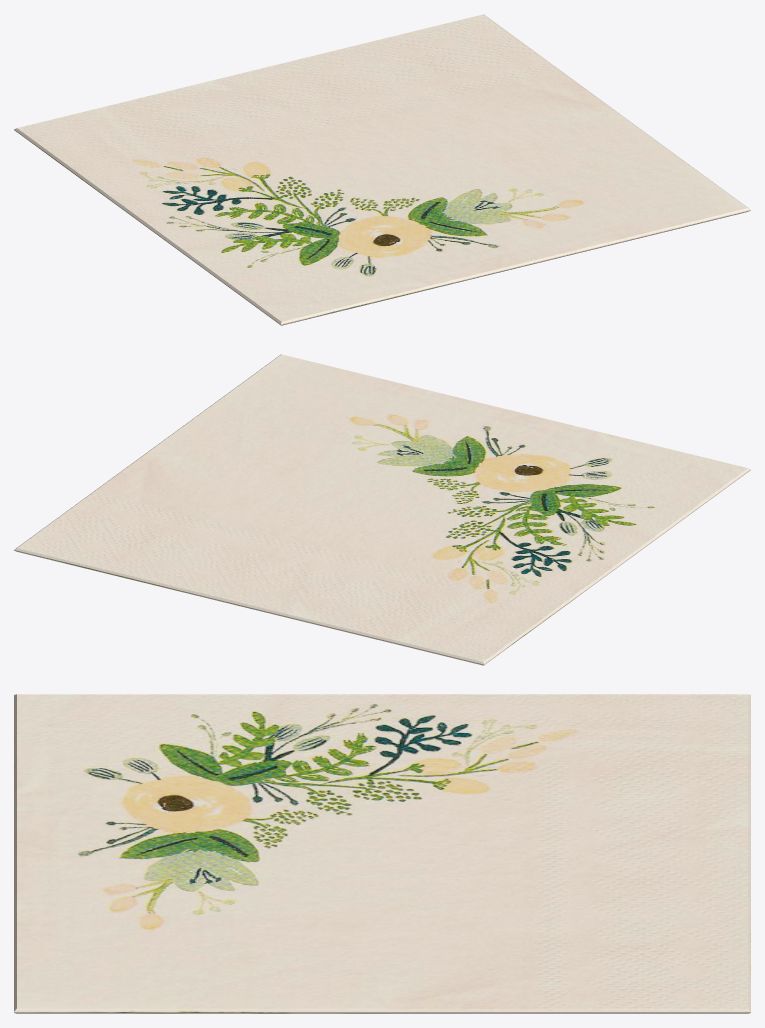
Rendered from Napkin 1.fbx.
3 renders of one model, top to bottom at view 1: azimuth 30°, elevation 25°; view 2: azimuth 150°, elevation 25°; view 3: azimuth 270°, elevation 25°, orthographic. The views are drawn at different scales.
Parts seen in each view (by area): view 1: Napkin 1; view 2: Napkin 1; view 3: Napkin 1.
Part boxes in pixels (x1,y1,x2,y2): Napkin 1: (14, 14, 750, 325); Napkin 1: (14, 354, 750, 665); Napkin 1: (14, 694, 750, 1013).
Bounding box in the file's own units: 12.93 × 0.1 × 12.71.
1 material, 1 textured.
